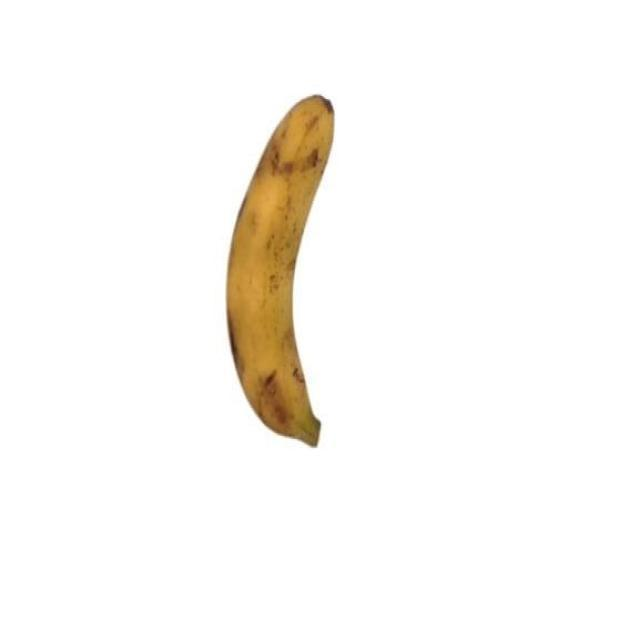Banana: (225, 92, 338, 446)
